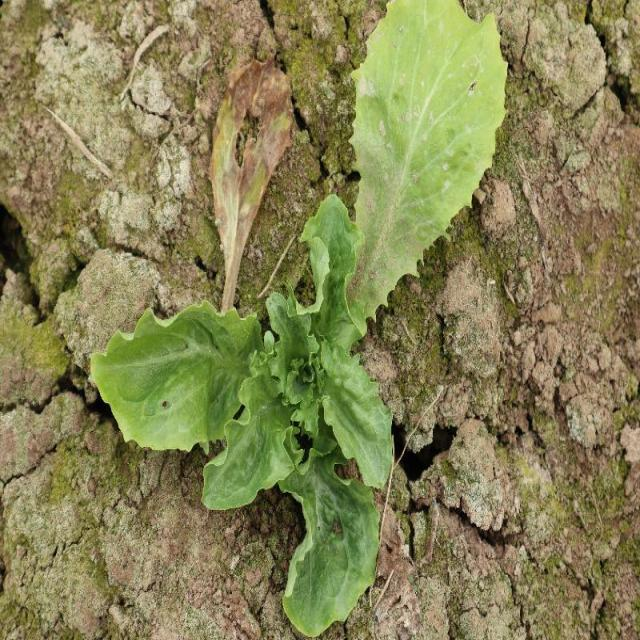crop: (89, 0, 507, 640)
